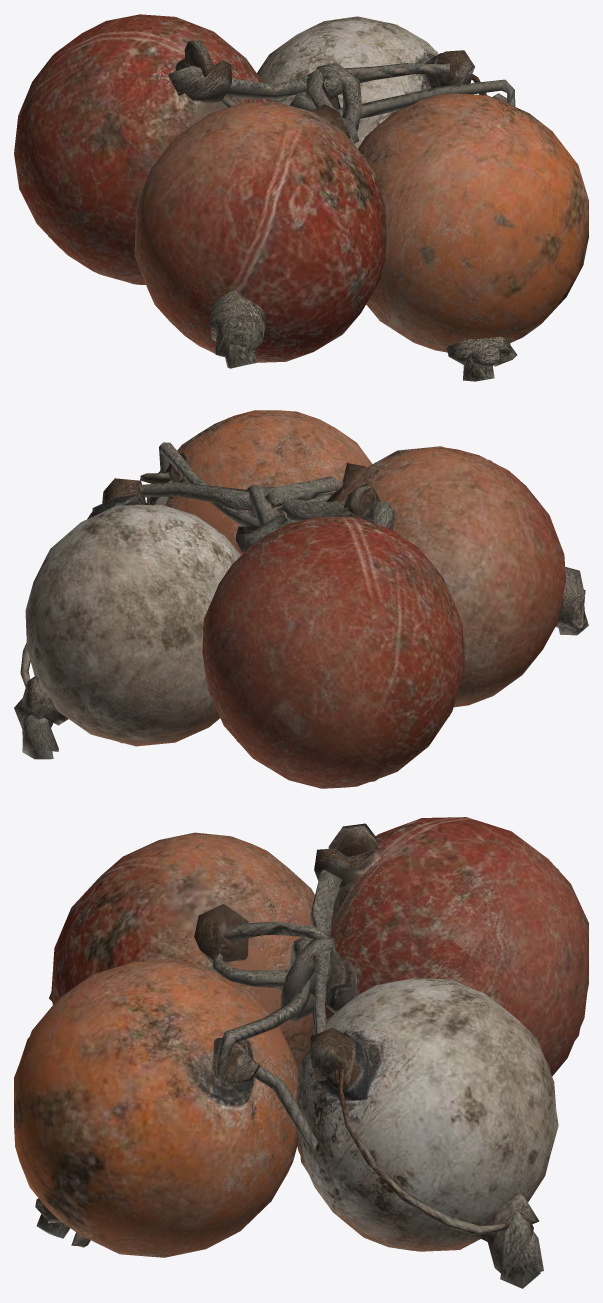
The model's file is buoy_cluster.glb.
3 views of the same model, one above another, from view 1: azimuth 30°, elevation 25°; view 2: azimuth 150°, elevation 25°; view 3: azimuth 270°, elevation 25° (orthographic). The views are drawn at different scales.
Size of the model in its own units: 1.26 by 0.8023 by 1.3.
1 material, 1 textured.
